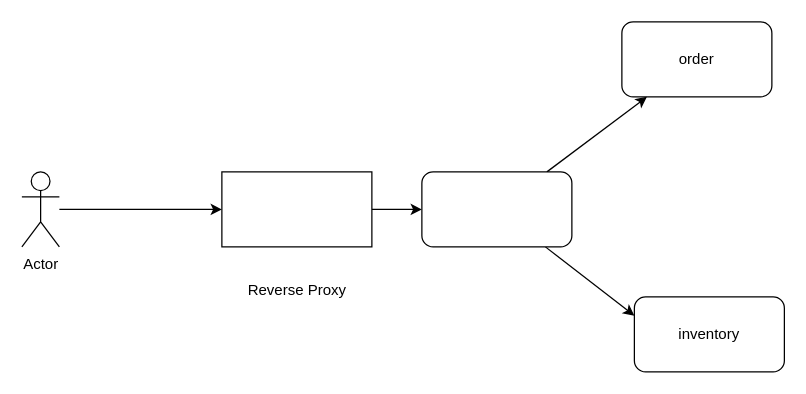
The diagram is 806 pixels wide and 394 high, and some of its shapes have lost their labels. Each missing label, with the box of its shape:
home: (421, 171, 572, 247)
Nginx: (221, 171, 372, 247)
